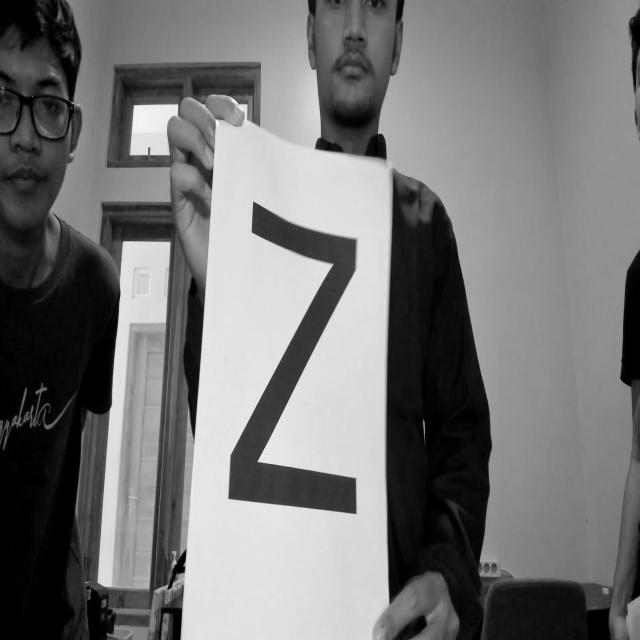z: (218, 178, 388, 554)
